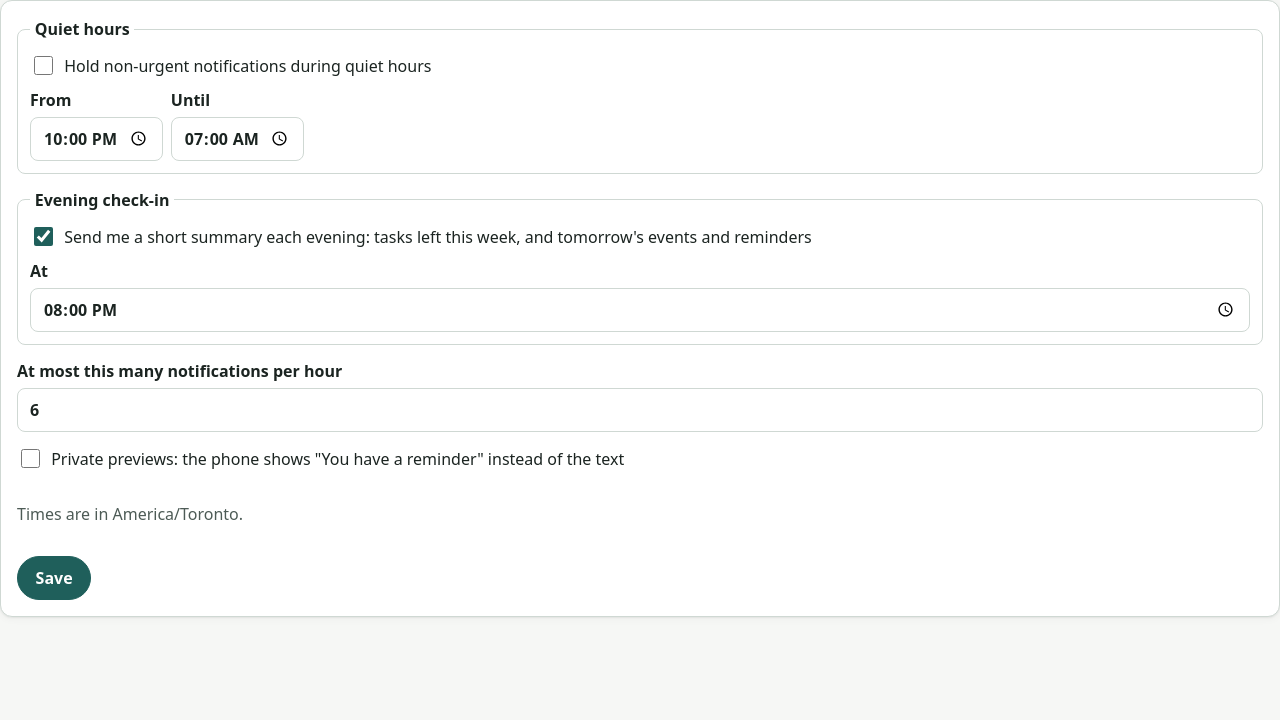
Test: Notification settings › turning it off sends no check-in time
This screenshot has width=1280, height=720.
Click the checkbox labelled "summary each evening": (44, 237) [34, 227, 53, 246]
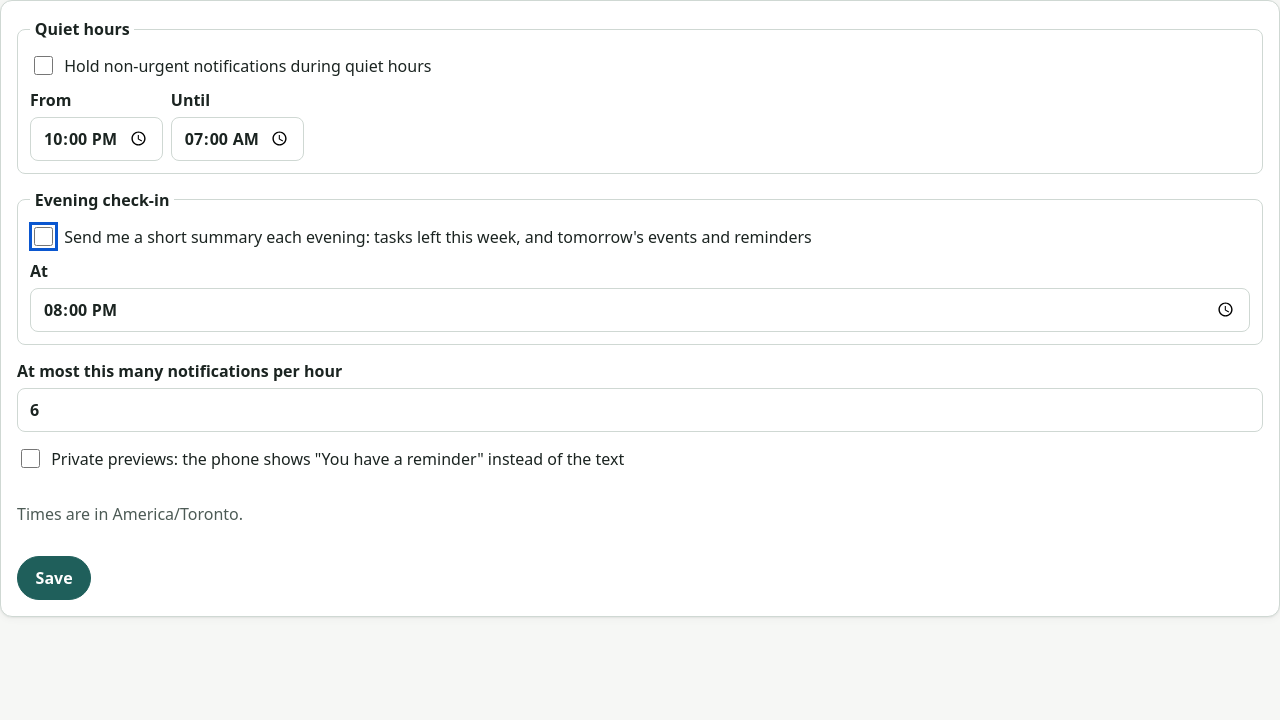
Click the button "Save": (54, 578) [17, 556, 91, 600]
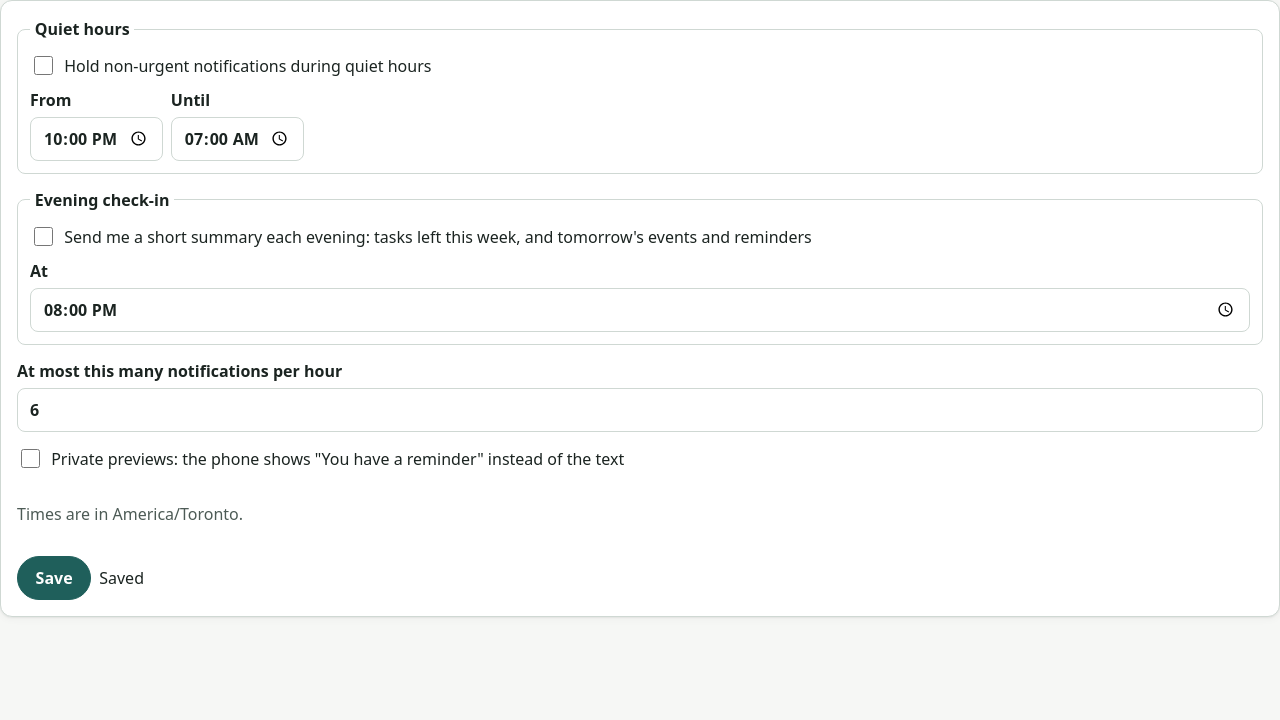
Expected: the message "Saved" is shown, [99, 566, 144, 590]
